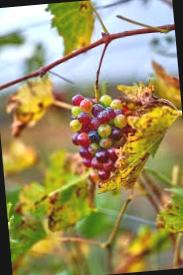Grape Rotten: (66, 89, 134, 184)
